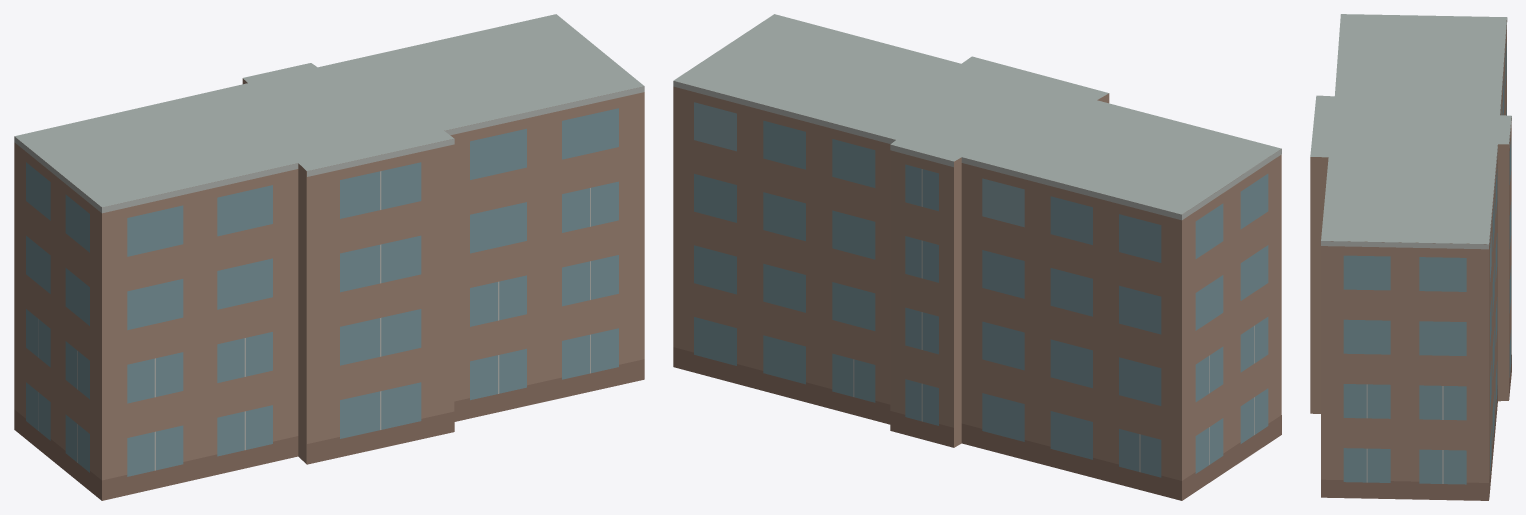
File: survey-upis-32570403.glb
3 views of the same model, side by side, from view 1: azimuth 30°, elevation 25°; view 2: azimuth 150°, elevation 25°; view 3: azimuth 270°, elevation 25° (orthographic). The views are drawn at different scales.
Parts seen in each view (by area): view 1: survey-upis-32570403.tmp; view 2: survey-upis-32570403.tmp; view 3: survey-upis-32570403.tmp.
Part boxes in pixels (left/top/right/bottom): survey-upis-32570403.tmp: left=14, top=14, right=644, bottom=500; survey-upis-32570403.tmp: left=673, top=14, right=1281, bottom=500; survey-upis-32570403.tmp: left=1310, top=14, right=1511, bottom=500.
Bounding box in the file's own units: 23.47 × 12.2 × 8.69.
